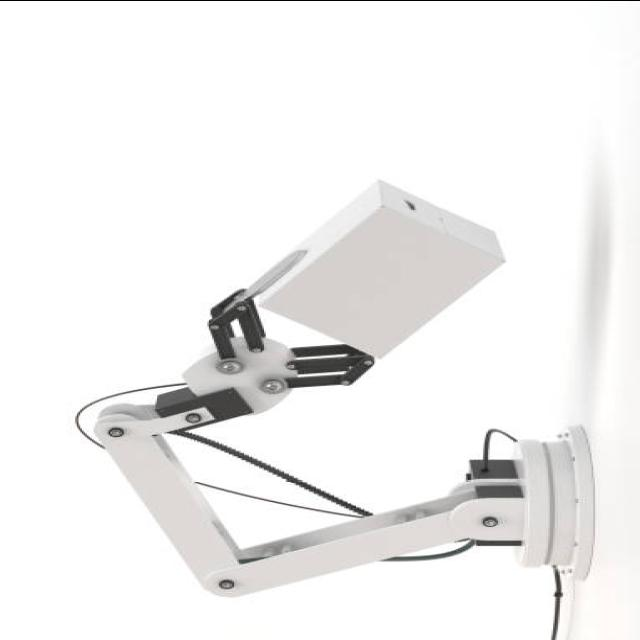Robotic-arm: (64, 174, 600, 603)
